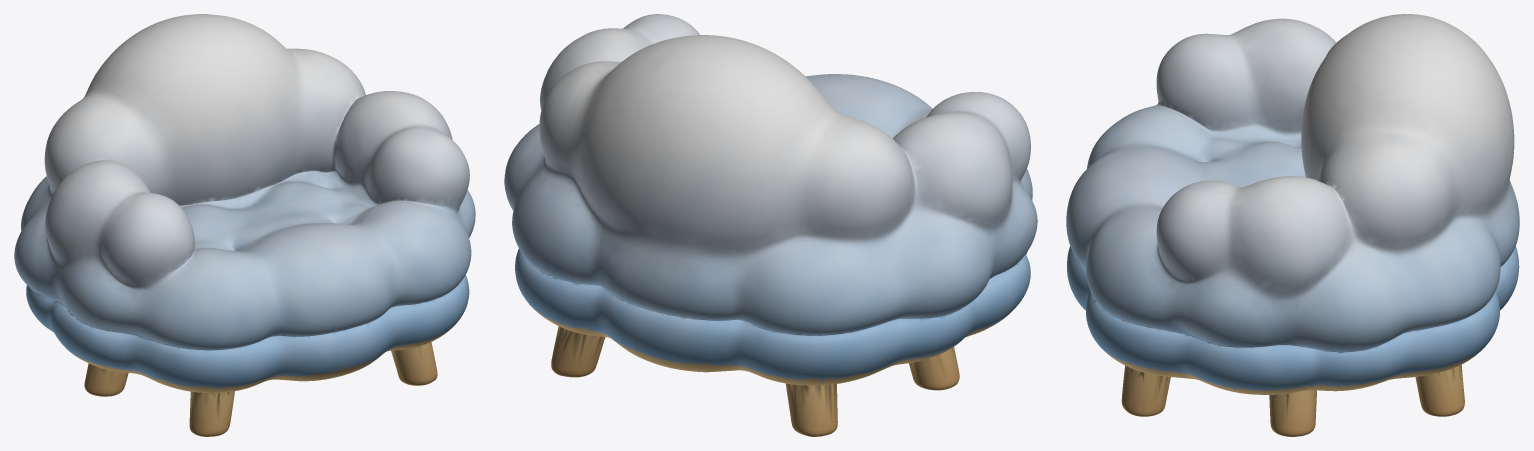
The model's file is cloudBed.glb.
The picture shows the model from 3 angles, left to right: view 1: azimuth 30°, elevation 25°; view 2: azimuth 150°, elevation 25°; view 3: azimuth 270°, elevation 25°; orthographic projection. The views are drawn at different scales.
Size of the model in its own units: 1 by 0.6959 by 0.879.
